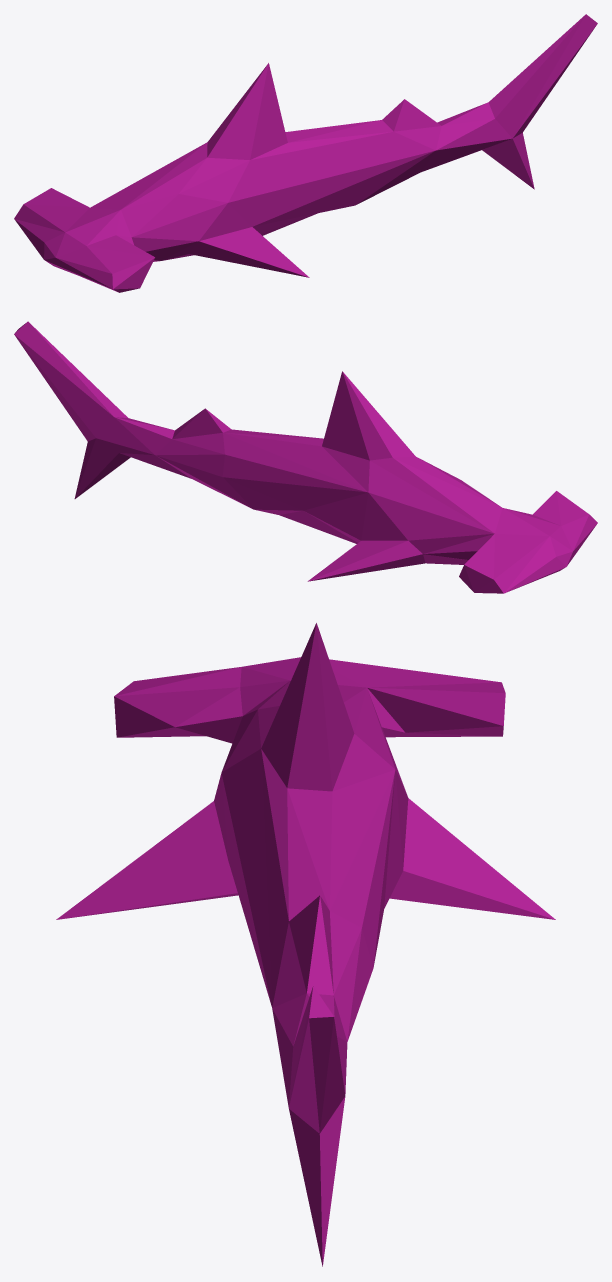
File: Hammerhead Shark.obj
3 views of the same model, one above another, from view 1: azimuth 30°, elevation 25°; view 2: azimuth 150°, elevation 25°; view 3: azimuth 270°, elevation 25° (orthographic). The views are drawn at different scales.
Visible parts, largest first — view 1: Hammerhead_Shark; view 2: Hammerhead_Shark; view 3: Hammerhead_Shark.
Part boxes in pixels (<box>): Hammerhead_Shark: <box>14,14,597,292</box>; Hammerhead_Shark: <box>14,321,597,593</box>; Hammerhead_Shark: <box>56,623,555,1266</box>.
Bounding box in the file's own units: 322 × 108 × 127.
